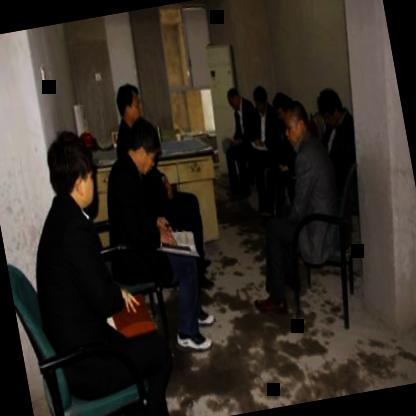head: (41, 128, 101, 216), (117, 108, 167, 183), (314, 84, 350, 134), (112, 79, 146, 128), (279, 99, 311, 144), (249, 80, 272, 114), (221, 82, 244, 115)
